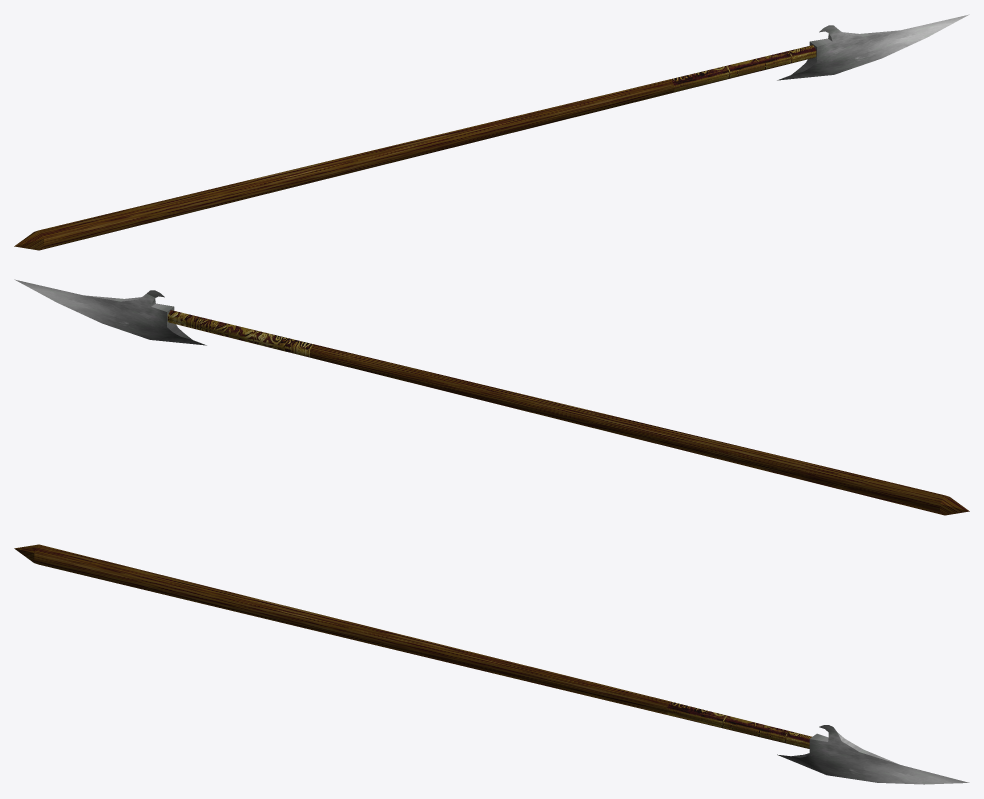
3 renders of one model, top to bottom at view 1: azimuth 30°, elevation 25°; view 2: azimuth 150°, elevation 25°; view 3: azimuth 330°, elevation 25°, orthographic.
Parts seen in each view (by area): view 1: it10613; view 2: it10613; view 3: it10613.
Boxes of the visible parts, box(x1,y1,x2,y2) form: it10613: box(14, 14, 969, 250); it10613: box(14, 279, 969, 515); it10613: box(14, 544, 969, 784).
Size of the model in its own units: 6.16 by 0.2908 by 0.1079.
Materials: 3 (3 with a texture image).
